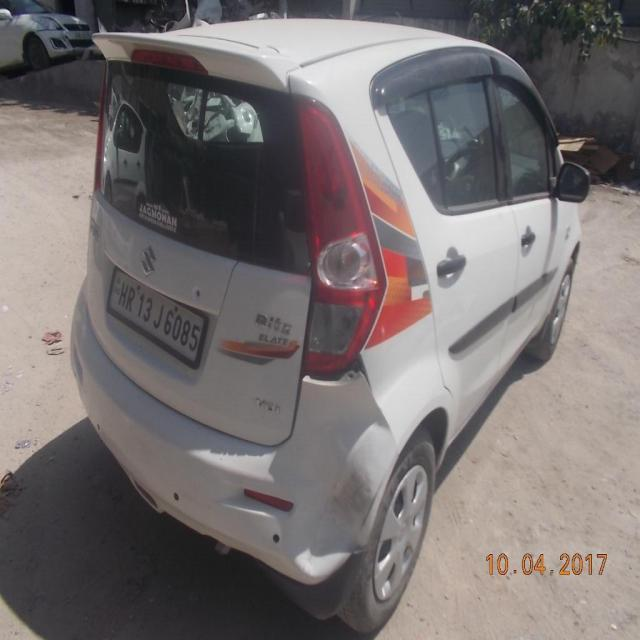damaged: (297, 354, 382, 597)
